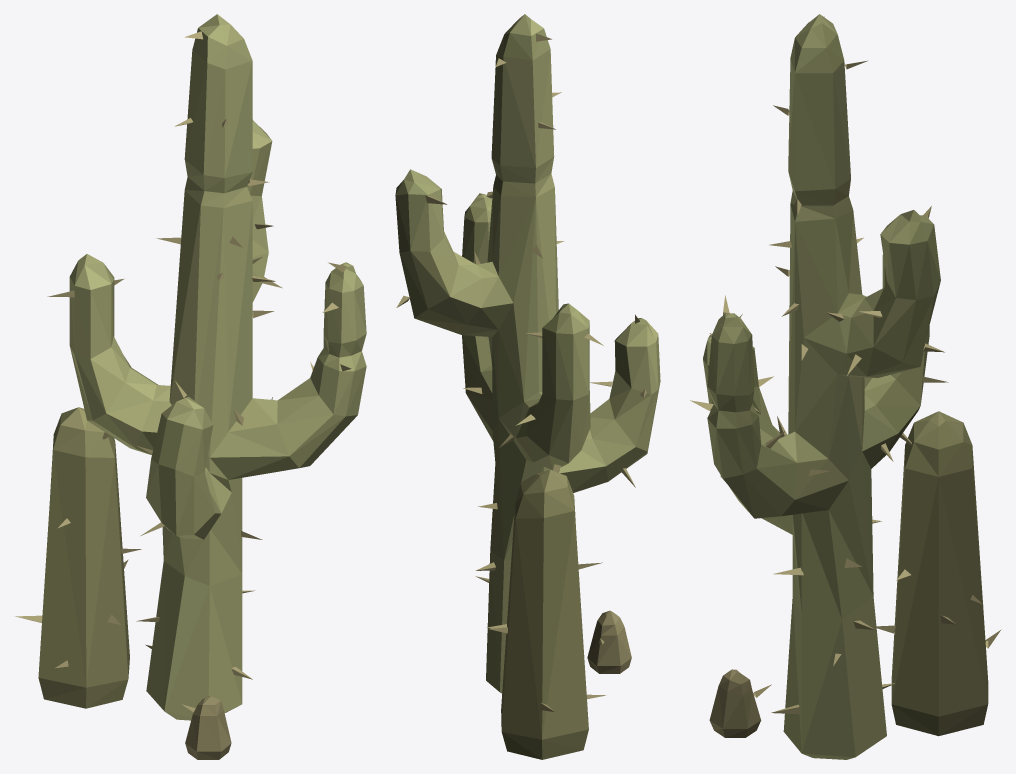
File: cactus3.fbx
3 renders of one model, left to right at view 1: azimuth 30°, elevation 25°; view 2: azimuth 150°, elevation 25°; view 3: azimuth 270°, elevation 25°, orthographic. The views are drawn at different scales.
Visible parts, largest first — view 1: Object Cactus 2024-03-16_08-24-52; view 2: Object Cactus 2024-03-16_08-24-52; view 3: Object Cactus 2024-03-16_08-24-52.
Part boxes in pixels (x1,y1,x2,y2): Object Cactus 2024-03-16_08-24-52: (15,14,366,759); Object Cactus 2024-03-16_08-24-52: (395,14,660,759); Object Cactus 2024-03-16_08-24-52: (690,14,1001,759).
Bounding box in the file's own units: 12600 × 36400 × 13900.
